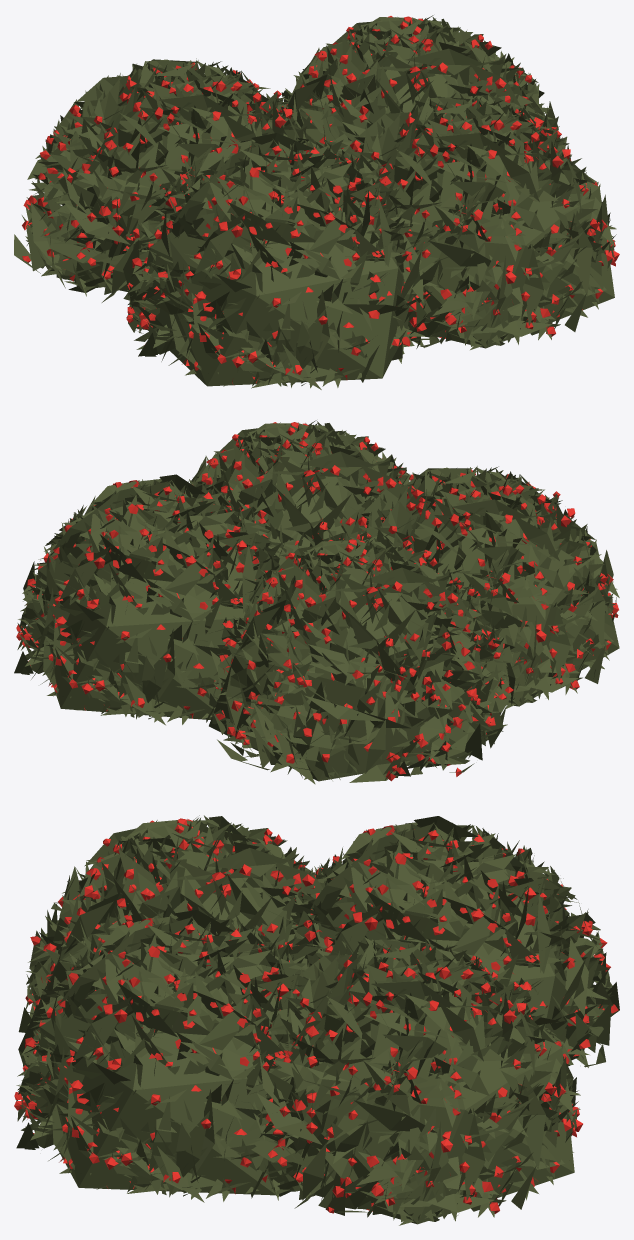
The picture shows the model from 3 angles, top to bottom: view 1: azimuth 30°, elevation 25°; view 2: azimuth 150°, elevation 25°; view 3: azimuth 270°, elevation 25°; orthographic projection. The views are drawn at different scales.
Visible parts, largest first — view 1: Icosphere.002, Icosphere.003, Icosphere.001, Icosphere; view 2: Icosphere.001, Icosphere, Icosphere.002, Icosphere.003; view 3: Icosphere, Icosphere.003, Icosphere.001, Icosphere.002.
Boxes of the visible parts, x1,y1,x2,y2 form: Icosphere.002: (123,133,439,389); Icosphere.003: (339,96,619,349); Icosphere.001: (14,58,319,302); Icosphere: (278,15,567,157); Icosphere.001: (209,537,515,784); Icosphere: (14,474,288,725); Icosphere.002: (345,466,619,708); Icosphere.003: (189,420,413,566); Icosphere: (245,938,582,1225); Icosphere.003: (14,910,312,1202); Icosphere.001: (295,816,619,1067); Icosphere.002: (18,815,339,1048).
Bounding box in the file's own units: 1.58 × 0.5577 × 1.48.
